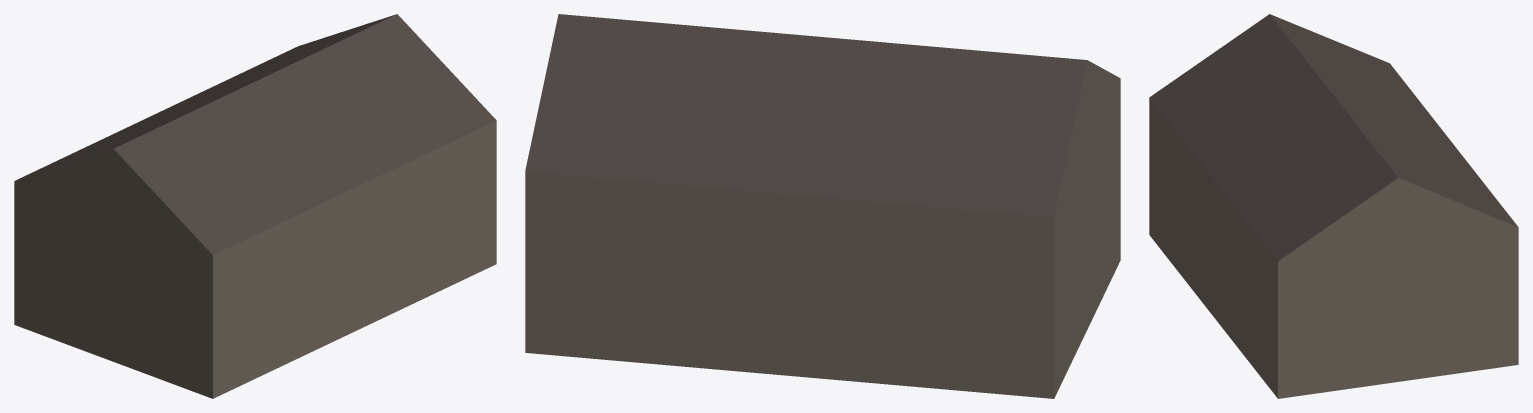
3 renders of one model, left to right at view 1: azimuth 30°, elevation 25°; view 2: azimuth 150°, elevation 25°; view 3: azimuth 270°, elevation 25°, orthographic. The views are drawn at different scales.
Parts seen in each view (by area): view 1: HP-w859082521; view 2: HP-w859082521; view 3: HP-w859082521.
Part boxes in pixels (<box>): HP-w859082521: <box>14,14,496,398</box>; HP-w859082521: <box>525,14,1120,398</box>; HP-w859082521: <box>1149,14,1518,398</box>.
Bounding box in the file's own units: 27.79 × 13.34 × 21.89.
